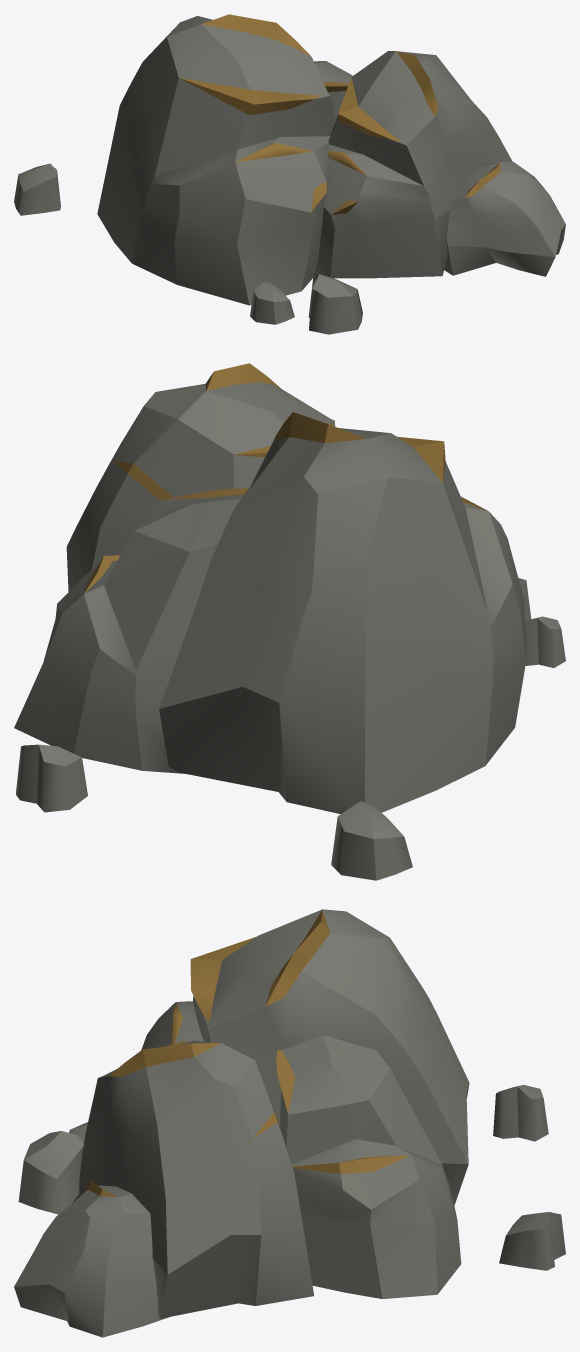
Rendered from Rocks_Gold.glb.
3 views of the same model, one above another, from view 1: azimuth 30°, elevation 25°; view 2: azimuth 150°, elevation 25°; view 3: azimuth 270°, elevation 25° (orthographic). The views are drawn at different scales.
Visible parts, largest first — view 1: Rocks_Gold_Merged; view 2: Rocks_Gold_Merged; view 3: Rocks_Gold_Merged.
Boxes of the visible parts, <box> form: Rocks_Gold_Merged: <box>14,14,565,334</box>; Rocks_Gold_Merged: <box>14,363,565,880</box>; Rocks_Gold_Merged: <box>14,909,565,1337</box>.
Size of the model in its own units: 0.7402 by 0.4217 by 0.7609.
